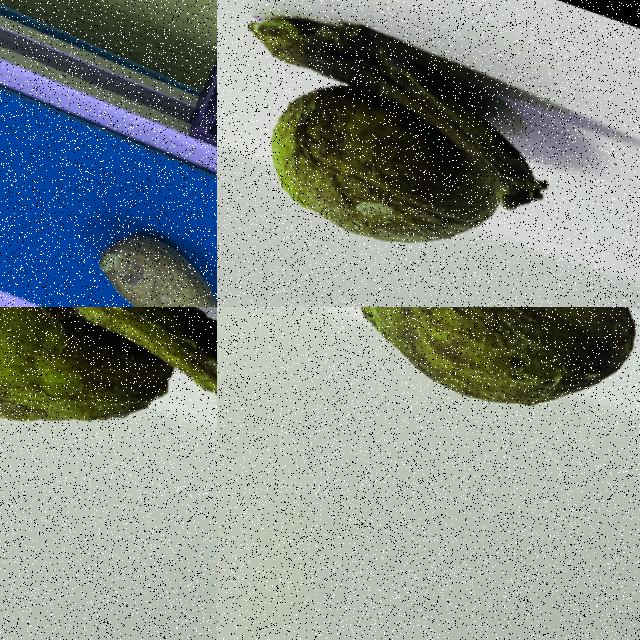Agglomerated_cocoabeans: (217, 0, 639, 306), (0, 307, 216, 555)
Fine_cocoabeans: (231, 307, 639, 497), (28, 172, 216, 306)
